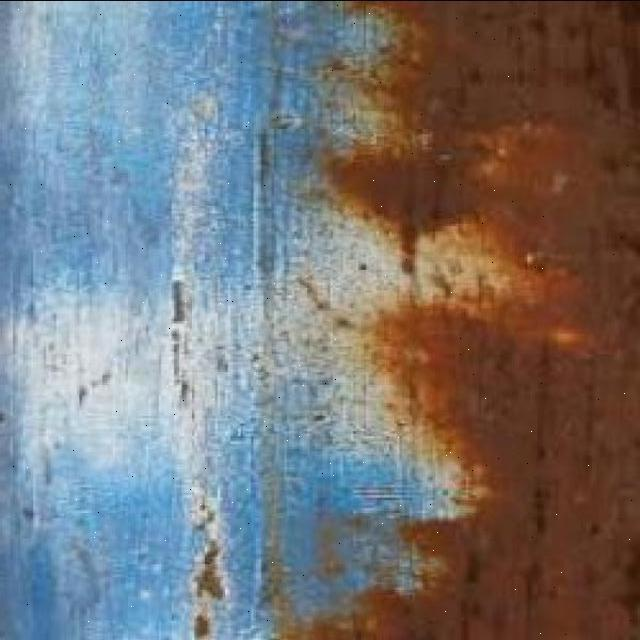corrosion: (336, 3, 639, 640), (325, 106, 603, 273), (306, 2, 438, 168)
crack: (249, 14, 291, 630), (167, 35, 207, 626)
vegetation: (1, 1, 638, 638)
